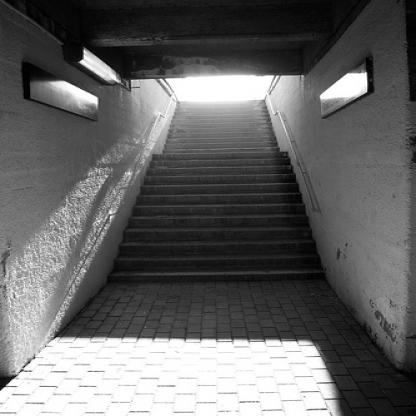stairs: (156, 155, 279, 284)
